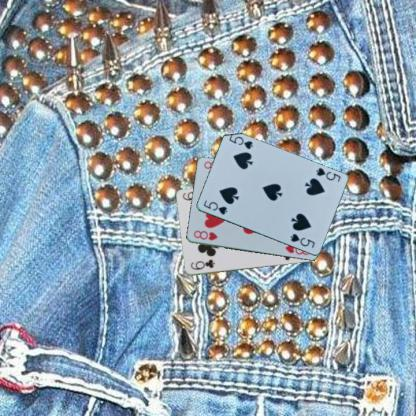5s: (313, 165, 342, 183), (201, 198, 228, 216)
6c: (188, 257, 216, 271)
8h: (192, 228, 219, 242)
